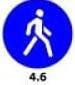road_sign: (3, 0, 71, 67)
